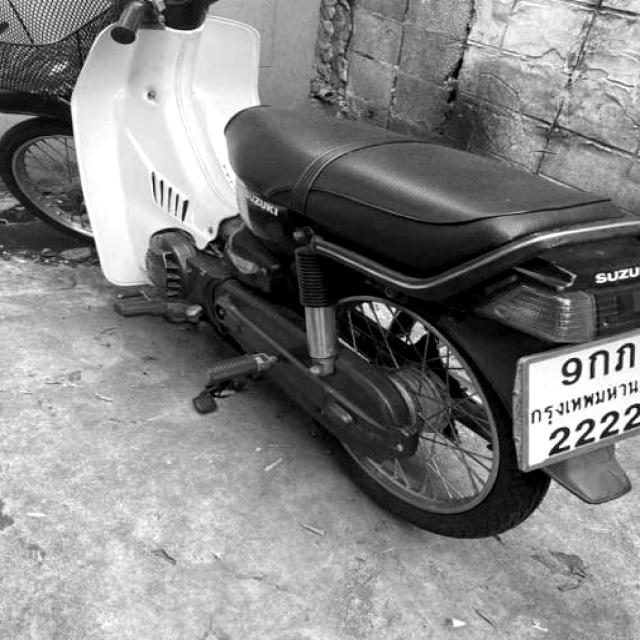letters: (587, 346, 613, 381), (557, 356, 585, 386), (617, 338, 640, 369), (547, 422, 569, 454), (577, 420, 599, 449), (623, 400, 640, 430), (602, 416, 618, 437)
license-plate: (525, 333, 640, 470)
province: (529, 375, 640, 431)
